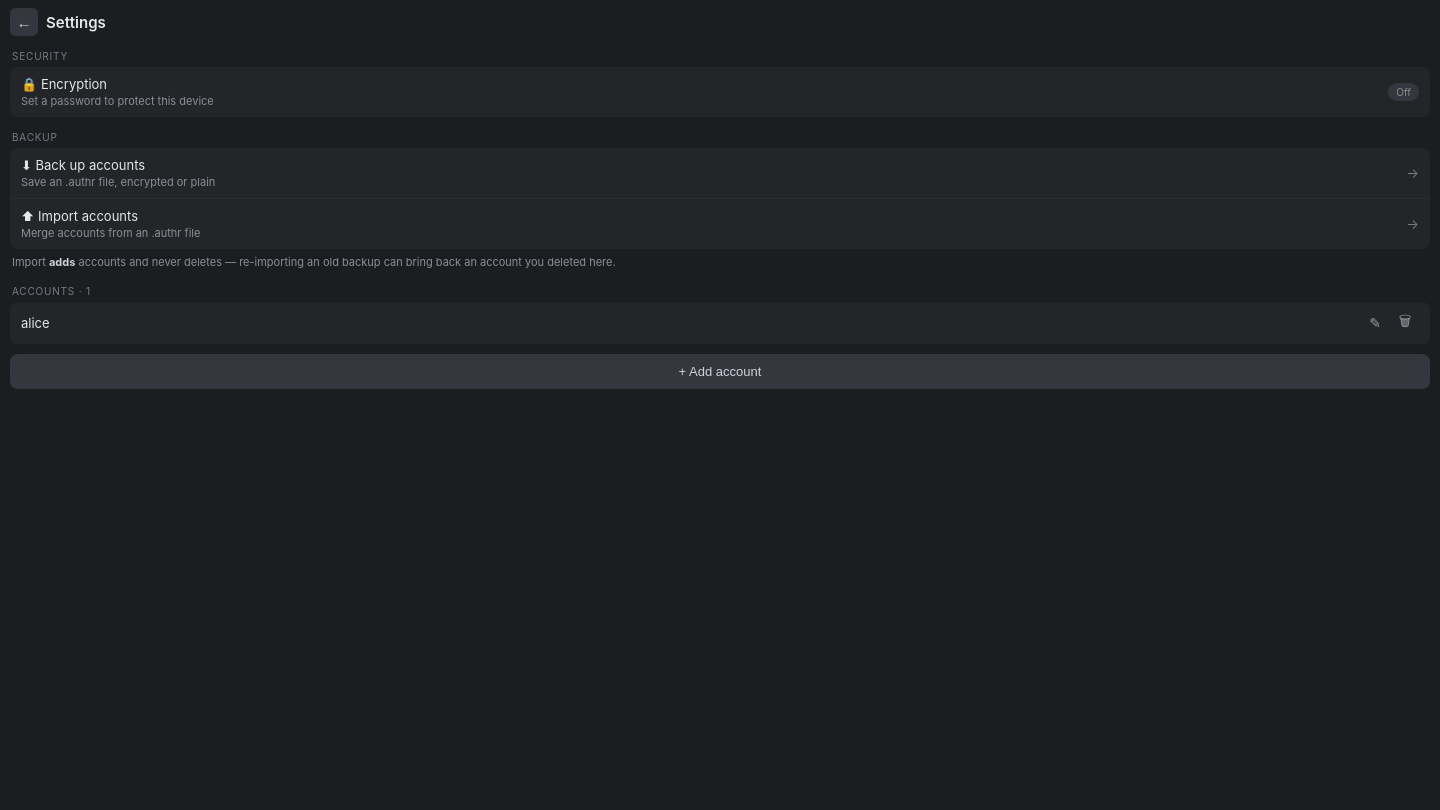
Scenario: Import accounts (D11) › prompts for the file's password when the backup is encrypted
Expected: the text "alice" is shown, [21,315,50,331]
Step 1. Click the button "⬆ Import accounts Merge accounts from an .authr file →" → coordinates (80, 216), box [10,198,1430,249]
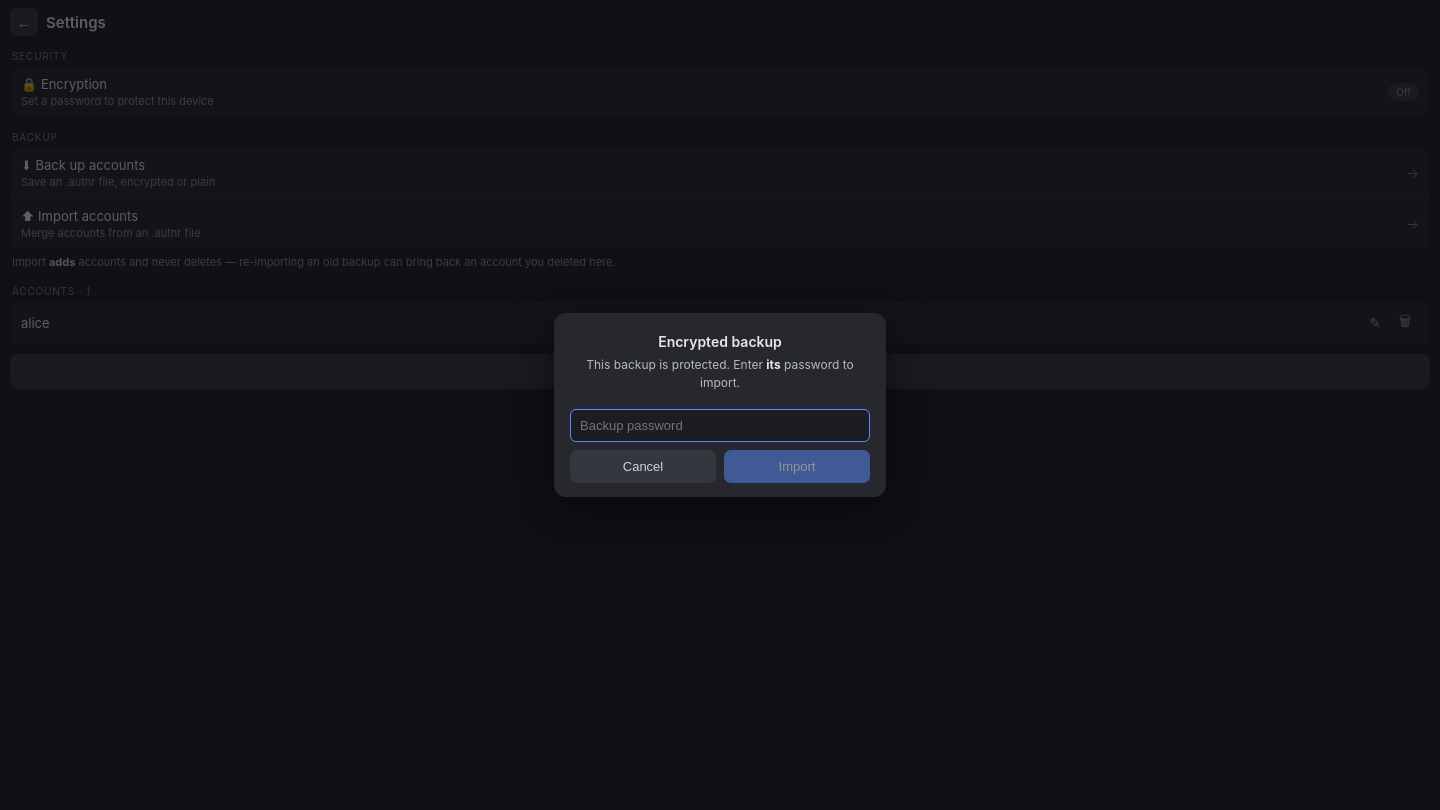
Now the dialog shows "Encrypted backup", box [658,333,782,350]
// Wrong password surfaces inline, keeps the prompt open.
Step 2. Type "nope" into the password field with placeholder "Backup password" → coordinates (720, 425), box [570,409,870,442]
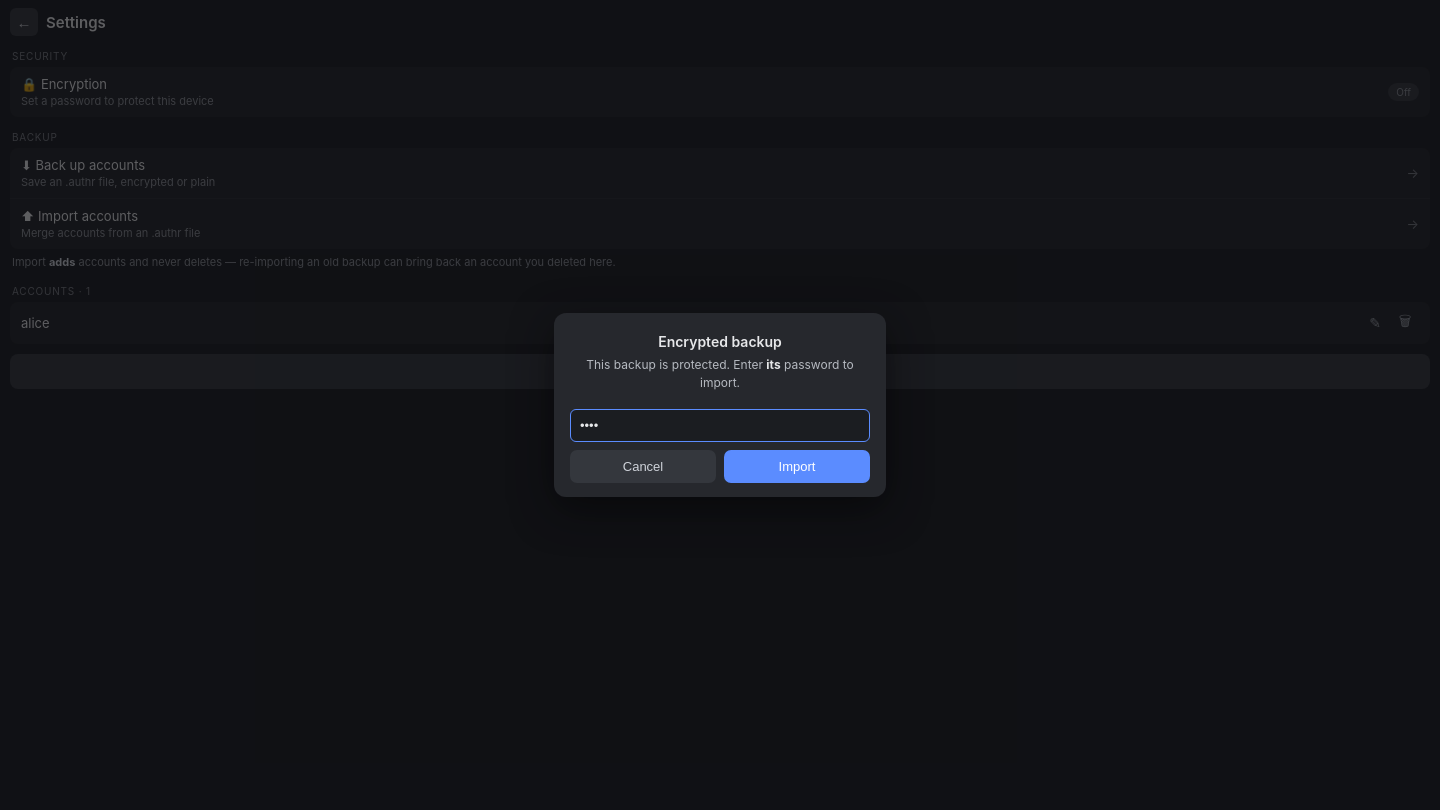
Step 3. Click the button "Import" → coordinates (797, 466), box [724,450,870,483]
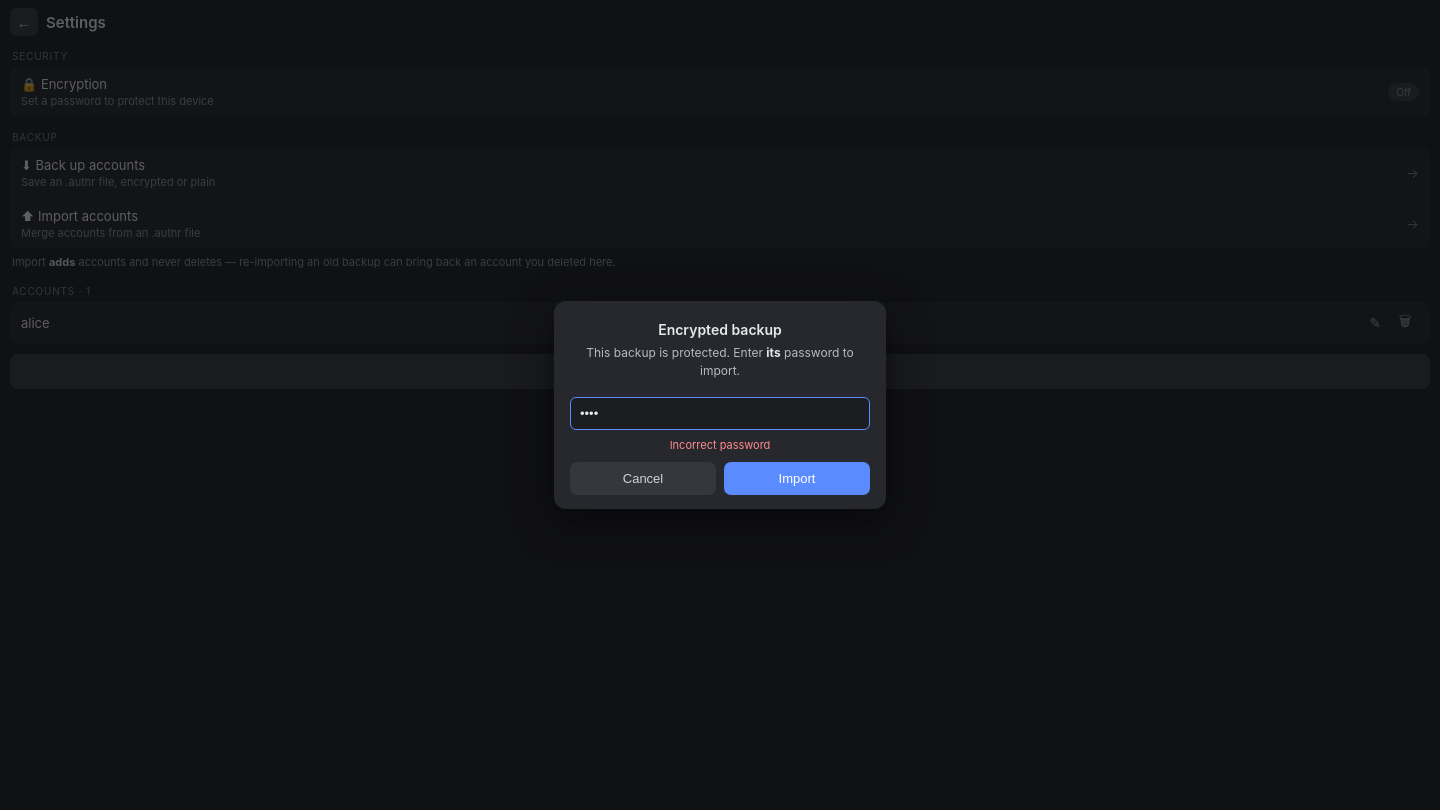
Now the dialog is shown, box [554,301,886,509]
Now the text "Incorrect password" is shown, box [670,438,770,452]
// Right password imports, closes the prompt, and toasts the counts.
Step 4. Type "file-pw" into the password field with placeholder "Backup password" → coordinates (720, 413), box [570,397,870,430]
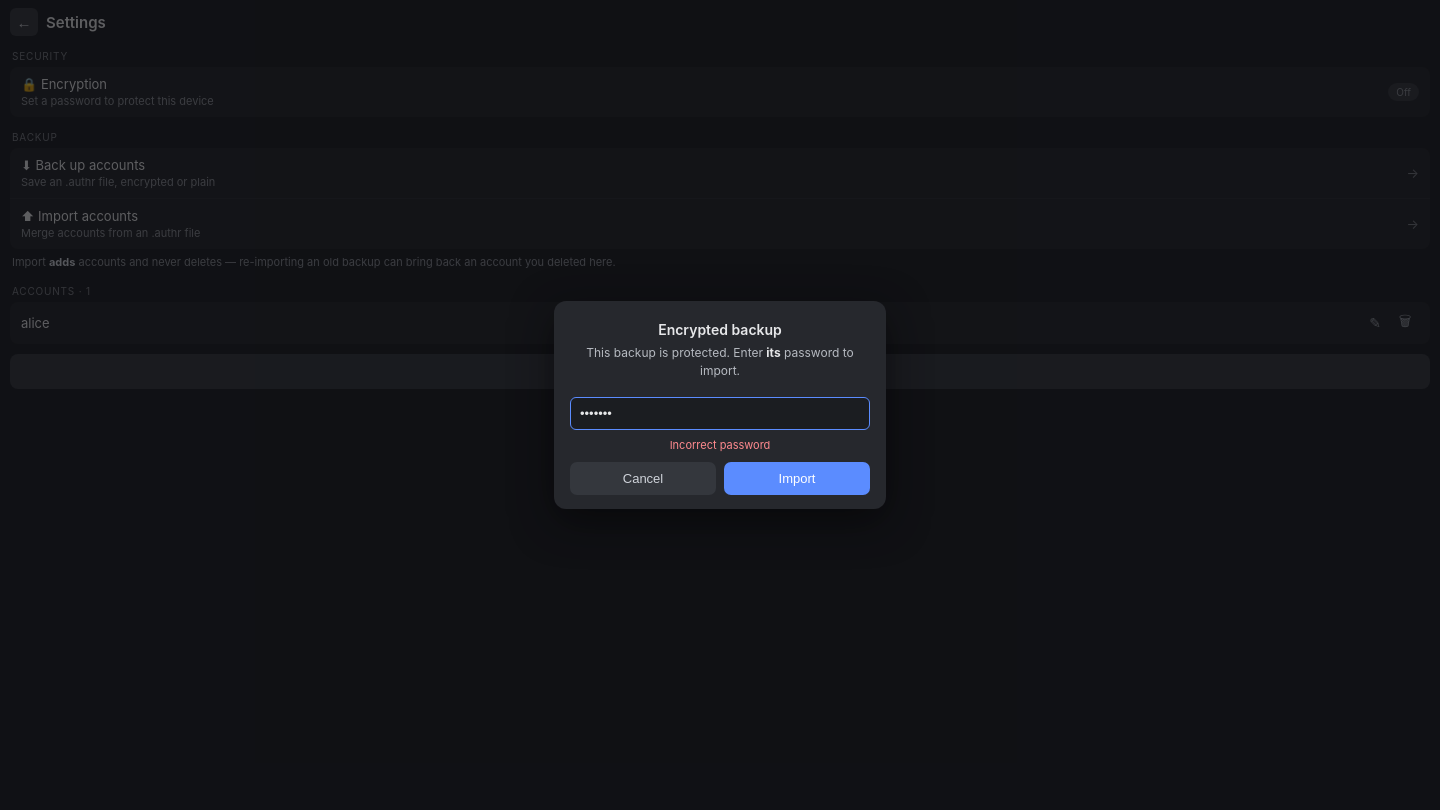
Step 5. Click the button "Import" → coordinates (797, 478), box [724,462,870,495]
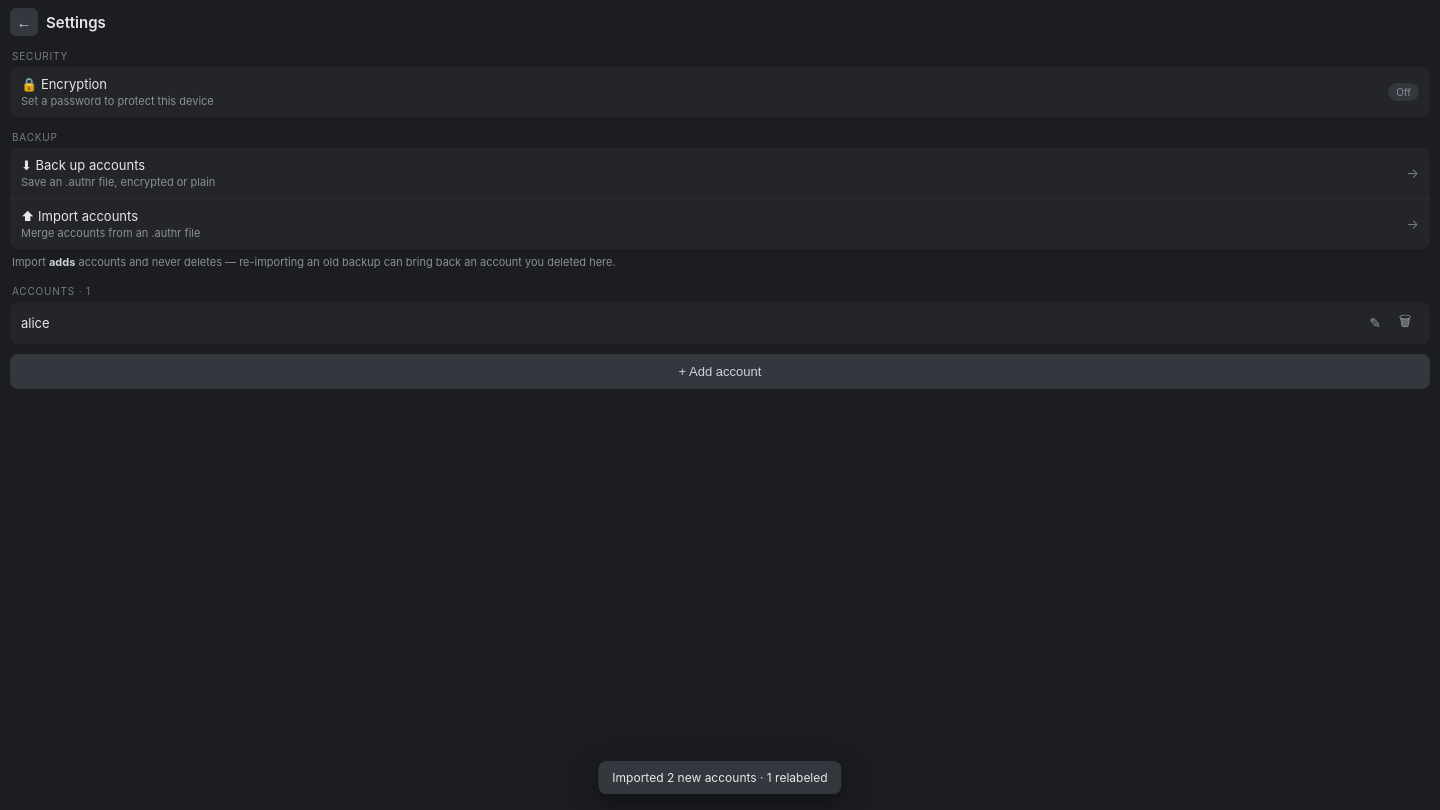
Now the dialog is gone
Now the message shows "Imported 2 new accounts", box [612,770,828,785]
Now the message shows "1 relabeled", box [612,770,828,785]
